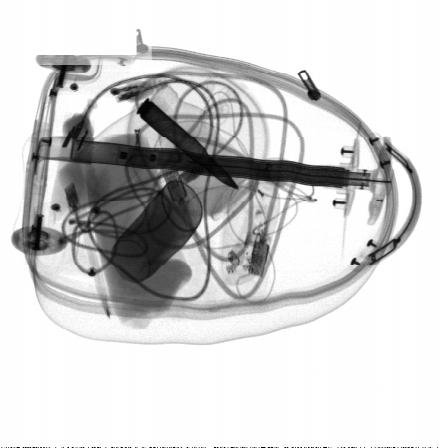Bullet: (137, 96, 240, 190)
